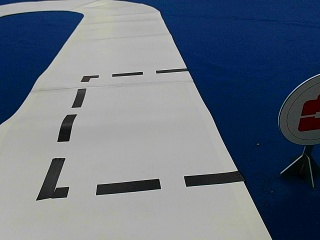company: (278, 76, 319, 143)
